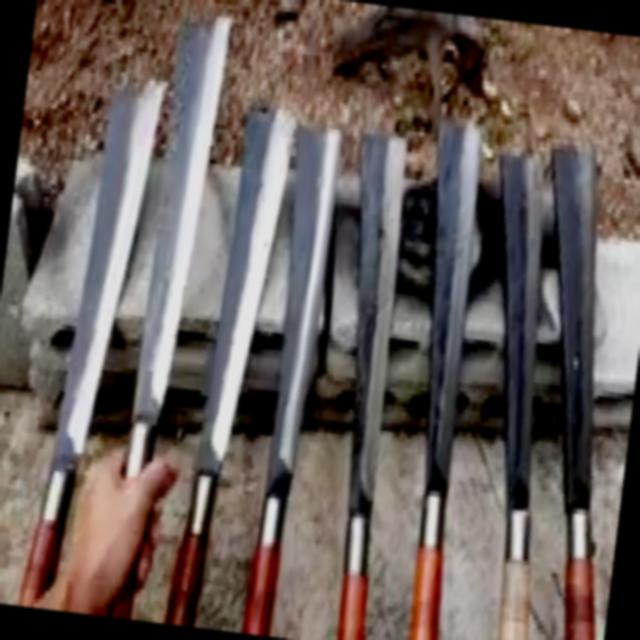eto: (111, 8, 228, 619)
